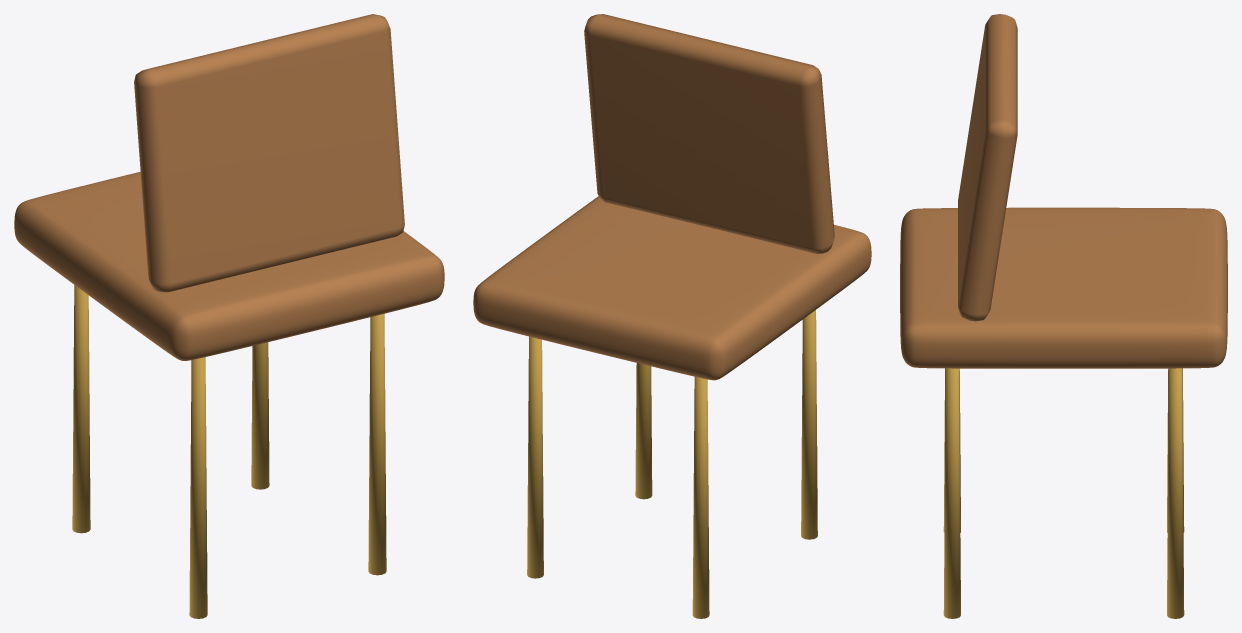
Rendered from chair.glb.
3 views of the same model, side by side, from view 1: azimuth 30°, elevation 25°; view 2: azimuth 150°, elevation 25°; view 3: azimuth 270°, elevation 25° (orthographic). The views are drawn at different scales.
Parts seen in each view (by area): view 1: leg; view 2: leg; view 3: leg.
Part boxes in pixels (x1=…): leg: x1=14, y1=14, x2=444, y2=618; leg: x1=473, y1=14, x2=871, y2=618; leg: x1=900, y1=14, x2=1227, y2=618.
Bounding box in the file's own units: 0.4596 × 0.8518 × 0.4996.
